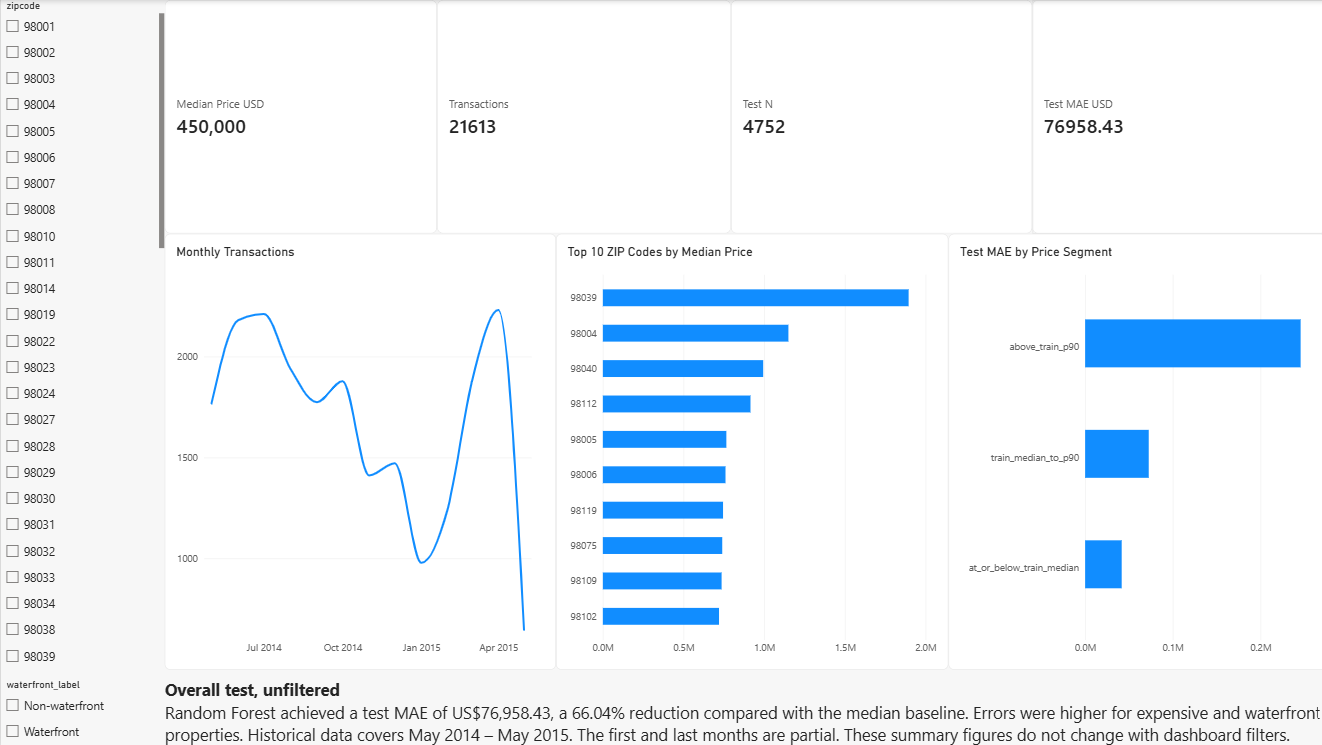

This screenshot's page, from the dashboard's own definition file:
{"tool":"powerbi","page":{"name":"Page 1","canvas":[1920,1080],"ordinal":0},"visuals":[{"type":"cardVisual","fields":{"Data":["Sales.Transactions"]},"box":[631.6,0,425.3,338.4],"z":0},{"type":"cardVisual","fields":{"Data":["Sales.Median Price USD"]},"box":[237.1,0,394.5,338.4],"z":1000},{"type":"cardVisual","fields":{"Data":["Sales.Test N"]},"box":[1056.8,0,436.1,338.4],"z":2000},{"type":"cardVisual","fields":{"Data":["Sales.Test MAE USD"]},"box":[1493,0,427.1,338.4],"z":3000},{"type":"lineChart","title":"Monthly Transactions","fields":{"Category":["Sales.sale_month"],"Y":["Sales.Transactions"]},"box":[237.1,338.4,566.4,631.6],"z":4000},{"type":"clusteredBarChart","title":"Top 10 ZIP Codes by Median Price","fields":{"Category":["Sales.zipcode"],"Y":["Sales.Median Price USD"]},"box":[803.5,338.4,568.2,631.6],"z":5000},{"type":"clusteredBarChart","title":"Test MAE by Price Segment","fields":{"Category":["Sales.test_price_segment"],"Y":["Sales.Test MAE USD"]},"box":[1371.7,338.4,548.3,631.6],"z":6000},{"type":"slicer","fields":{"Values":["Sales.zipcode"]},"box":[0,0,237.1,970],"z":7000},{"type":"slicer","fields":{"Values":["Sales.waterfront_label"]},"box":[0,982.6,202.7,97.7],"z":8000},{"type":"textbox","box":[237.1,982.6,1683,97.7],"z":9000}]}

Visuals, with their boxes in screenshot pixels (x1, y1, x2, y2), scaled from the page's 1920x1080 canvas onto the 1322x745 screenshot:
cardVisual - Sales.Transactions: region(435, 0, 728, 233)
cardVisual - Sales.Median Price USD: region(163, 0, 435, 233)
cardVisual - Sales.Test N: region(728, 0, 1028, 233)
cardVisual - Sales.Test MAE USD: region(1028, 0, 1321, 233)
"Monthly Transactions" lineChart: region(163, 233, 553, 669)
"Top 10 ZIP Codes by Median Price" clusteredBarChart: region(553, 233, 944, 669)
"Test MAE by Price Segment" clusteredBarChart: region(944, 233, 1321, 669)
slicer - Sales.zipcode: region(0, 0, 163, 669)
slicer - Sales.waterfront_label: region(0, 678, 140, 744)
textbox: region(163, 678, 1321, 744)
